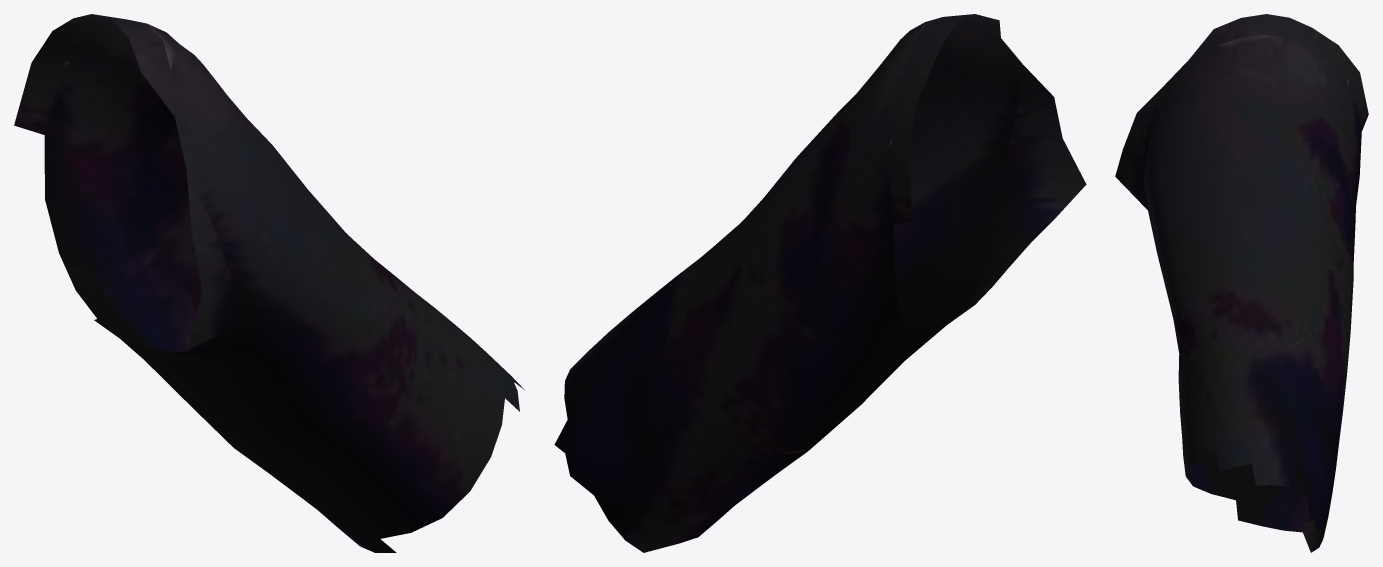
Rendered from ProfesorLeftArm.obj.
The picture shows the model from 3 angles, left to right: view 1: azimuth 30°, elevation 25°; view 2: azimuth 150°, elevation 25°; view 3: azimuth 270°, elevation 25°; orthographic projection. The views are drawn at different scales.
Parts seen in each view (by area): view 1: ProfesorLeftArm; view 2: ProfesorLeftArm; view 3: ProfesorLeftArm.
Part boxes in pixels (<box>): ProfesorLeftArm: <box>14,14,524,552</box>; ProfesorLeftArm: <box>554,14,1086,552</box>; ProfesorLeftArm: <box>1115,14,1368,552</box>.
Size of the model in its own units: 19.05 by 25.55 by 13.51.
Materials: 1 (1 with a texture image).
